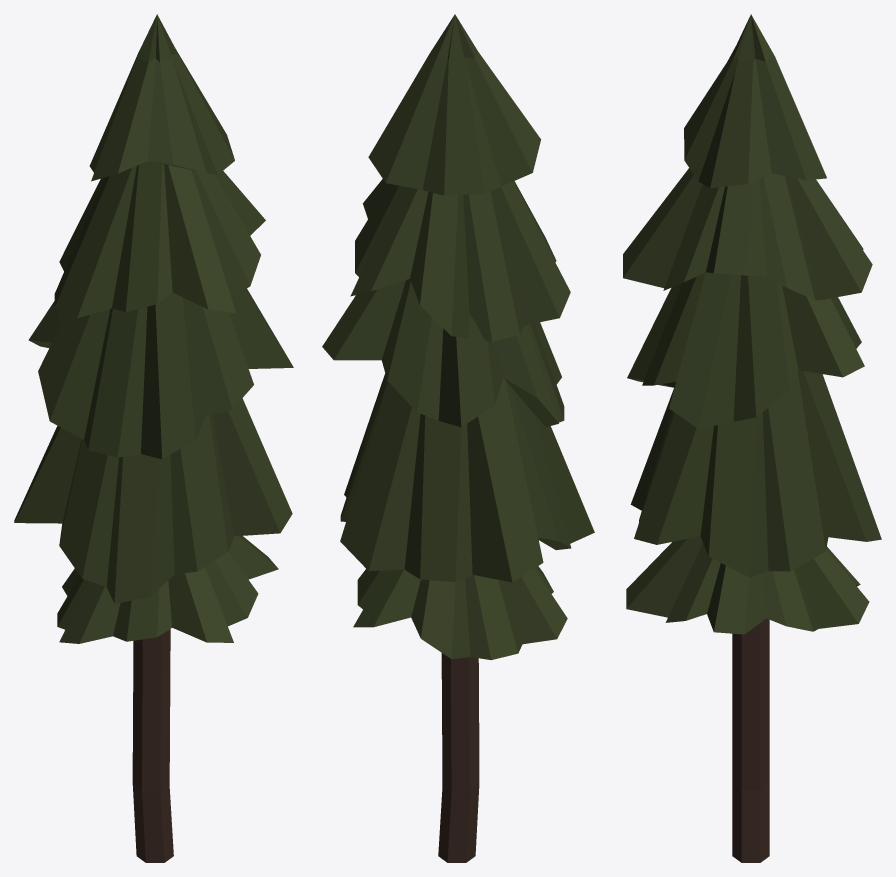
Rendered from Tree Type2 05.glb.
3 views of the same model, side by side, from view 1: azimuth 30°, elevation 25°; view 2: azimuth 150°, elevation 25°; view 3: azimuth 270°, elevation 25° (orthographic).
Visible parts, largest first — view 1: Tree_Type2_05_mesh; view 2: Tree_Type2_05_mesh; view 3: Tree_Type2_05_mesh.
Boxes of the visible parts, x1,y1,x2,y2 form: Tree_Type2_05_mesh: (14,14,293,862); Tree_Type2_05_mesh: (322,14,594,862); Tree_Type2_05_mesh: (623,14,881,862).
Size of the model in its own units: 1.9 by 6.73 by 1.87.
Materials: 1 (1 with a texture image).
